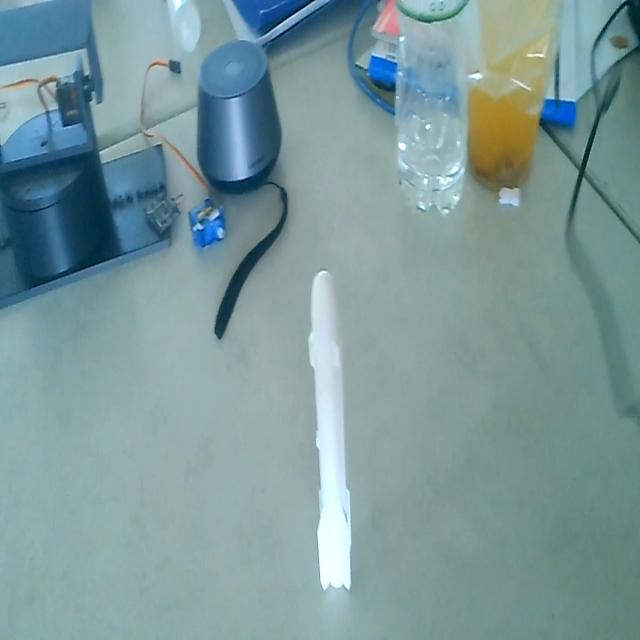Rocket: (308, 266, 357, 598)
